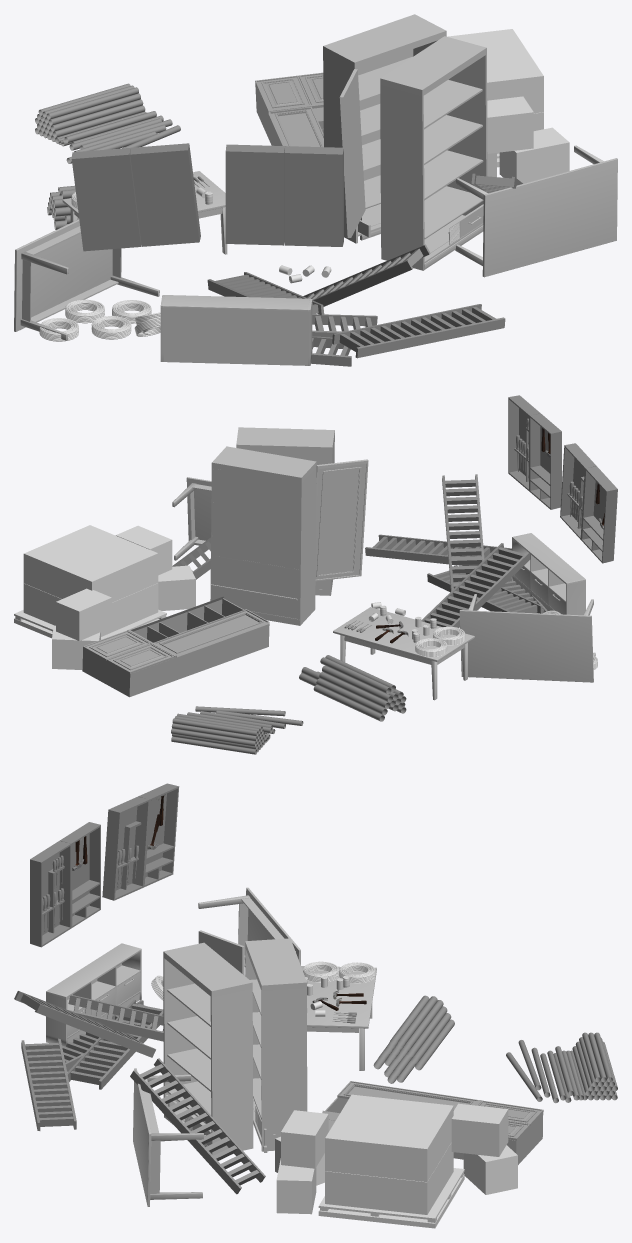
The model's file is RoomProps.FBX.
3 renders of one model, top to bottom at view 1: azimuth 30°, elevation 25°; view 2: azimuth 150°, elevation 25°; view 3: azimuth 270°, elevation 25°, orthographic. The views are drawn at different scales.
Parts seen in each view (by area): view 1: Cupboard02, Cabinet, Tables, Ladders, Cabinet02, Cardboard Boxes, Pipes, Cupboard01, Coils of Wire; view 2: Cupboard02, Cardboard Boxes, Tables, Ladders, Cupboard01, Cabinet, Pipes, Cabinet02, Coils of Wire, Cardboard Boxes_Base, Screwdrivers, Hammers; view 3: Cupboard02, Cardboard Boxes, Ladders, Cabinet, Tables, Pipes, Cabinet02, Cupboard01, Cardboard Boxes_Base, Coils of Wire, Screwdrivers, Hammers.
Part boxes in pixels (bbox=[...]): Cupboard02: bbox=[323, 14, 487, 270]; Cabinet: bbox=[71, 143, 343, 251]; Tables: bbox=[14, 145, 617, 340]; Ladders: bbox=[207, 173, 522, 366]; Cabinet02: bbox=[160, 295, 312, 365]; Cardboard Boxes: bbox=[447, 29, 569, 183]; Pipes: bbox=[35, 83, 180, 229]; Cupboard01: bbox=[255, 72, 323, 147]; Coils of Wire: bbox=[39, 192, 160, 341]; Cupboard02: bbox=[210, 427, 368, 625]; Cardboard Boxes: bbox=[23, 525, 195, 669]; Tables: bbox=[172, 477, 595, 700]; Ladders: bbox=[172, 474, 547, 627]; Cupboard01: bbox=[82, 596, 269, 697]; Cabinet: bbox=[508, 395, 617, 563]; Pipes: bbox=[171, 655, 406, 754]; Cabinet02: bbox=[512, 533, 585, 615]; Coils of Wire: bbox=[415, 610, 597, 669]; Cardboard Boxes_Base: bbox=[14, 609, 166, 639]; Screwdrivers: bbox=[344, 418, 582, 632]; Hammers: bbox=[375, 428, 604, 643]; Cupboard02: bbox=[163, 930, 307, 1155]; Cardboard Boxes: bbox=[275, 1094, 517, 1214]; Ladders: bbox=[14, 991, 265, 1194]; Cabinet: bbox=[30, 783, 179, 947]; Tables: bbox=[133, 887, 376, 1206]; Pipes: bbox=[373, 995, 617, 1103]; Cabinet02: bbox=[46, 943, 141, 1046]; Cupboard01: bbox=[322, 1081, 543, 1164]; Cardboard Boxes_Base: bbox=[318, 1168, 464, 1228]; Coils of Wire: bbox=[151, 961, 375, 1000]; Screwdrivers: bbox=[42, 845, 356, 1023]; Hammers: bbox=[72, 794, 366, 1010].
Bounding box in the file's own units: 601 × 207 × 570.
